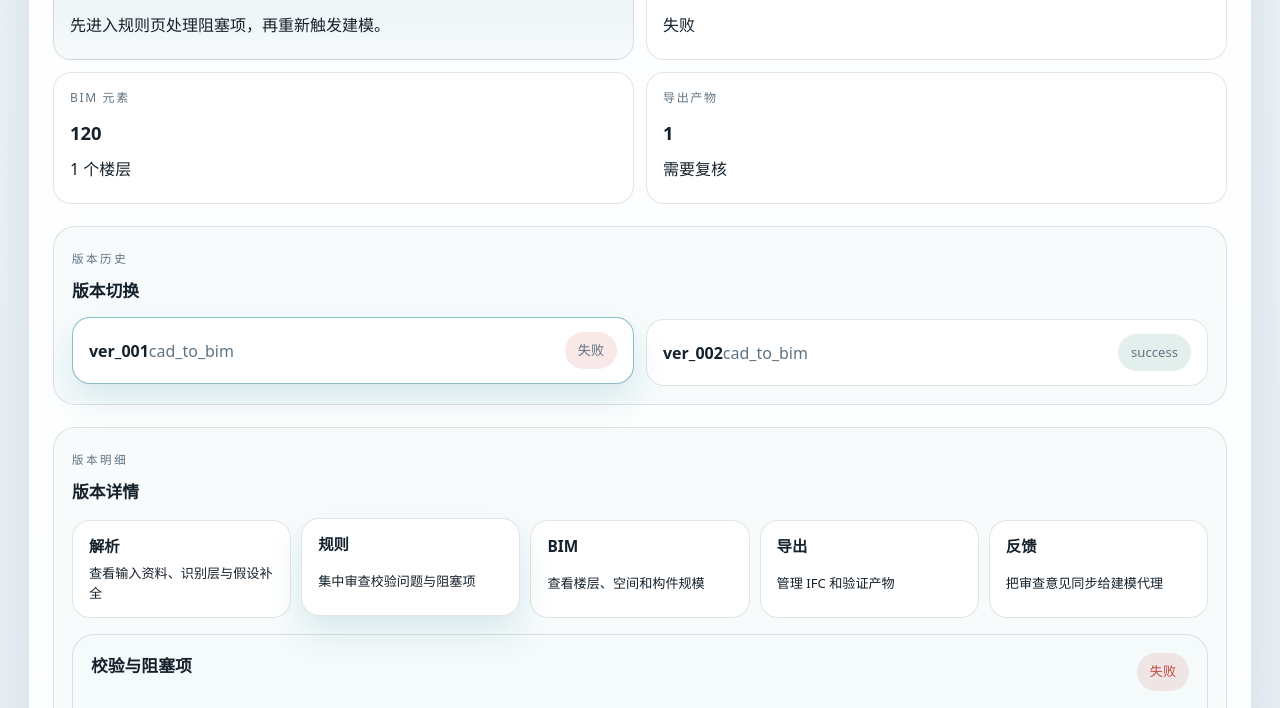
Test: App › switches a failed version back to parse view when a successful version is selected
This screenshot has width=1280, height=708.
(page scrolled)
Step 1. Click the button "ver_002cad_to_bim success" → (693, 353), box x1=646 y1=319 x2=1208 y2=386
(page scrolled)
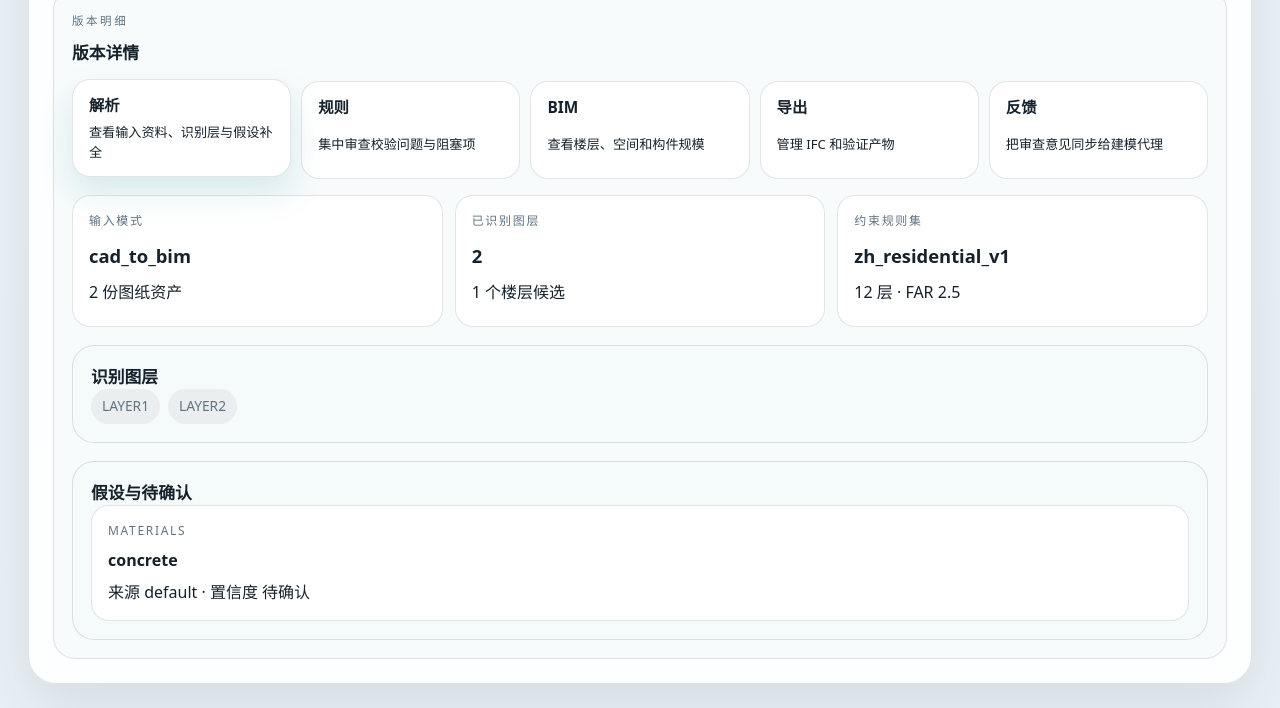
Expected: the panel named "解析" is shown, x1=72 y1=195 x2=1208 y2=640
Expected: the heading "识别图层" is shown, x1=91 y1=364 x2=158 y2=390
